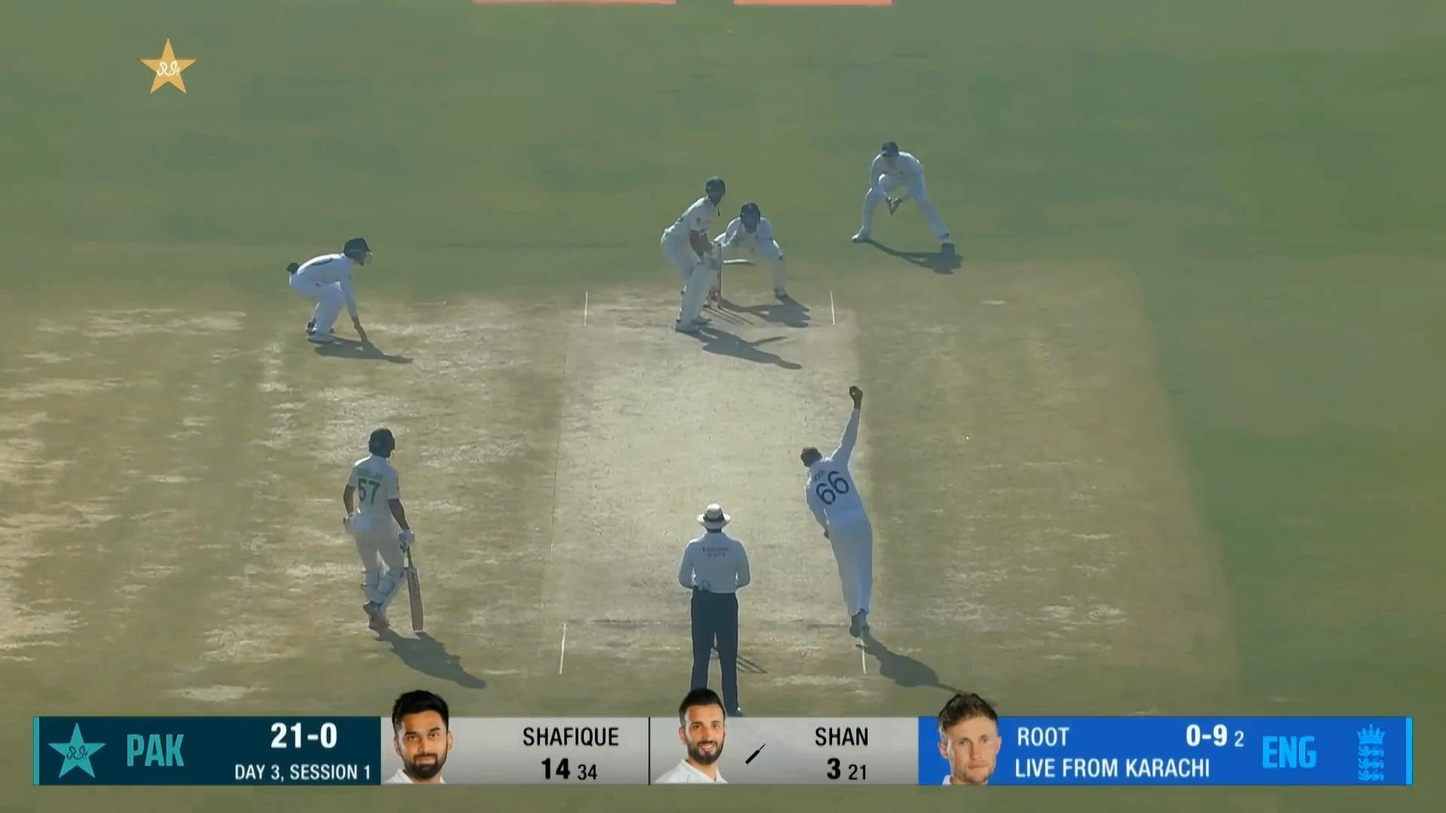BM 1: (660, 178, 761, 333)
BO: (799, 385, 877, 638)
